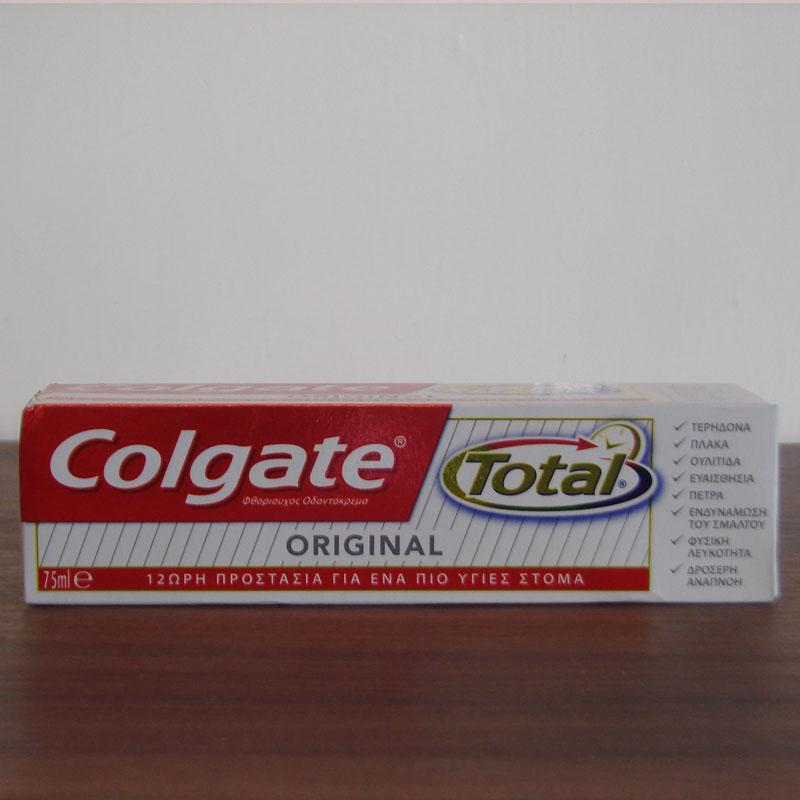toothpaste: (17, 372, 778, 613)
